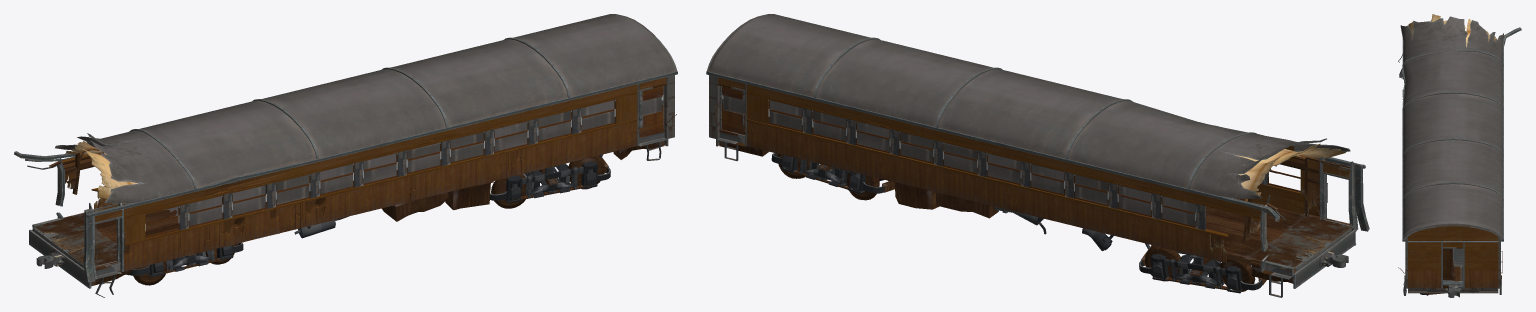
The model's file is TrainBody.fbx.
3 renders of one model, left to right at view 1: azimuth 30°, elevation 25°; view 2: azimuth 150°, elevation 25°; view 3: azimuth 270°, elevation 25°, orthographic. The views are drawn at different scales.
Visible parts, largest first — view 1: 0011_SM_d_114_BrokenLocomotive_02a, 0003_SM_d_114_BrokenLocomotive_02a, 0001_SM_d_114_BrokenLocomotive_02a, 0012_SM_d_114_BrokenLocomotive_02a, 0004_SM_d_114_BrokenLocomotive_02a, 0014_SM_d_114_BrokenLocomotive_02a, 0015_SM_d_114_BrokenLocomotive_02a, 0000_SM_d_114_BrokenLocomotive_02a, 0010_SM_d_114_BrokenLocomotive_02a, 0009_SM_d_114_BrokenLocomotive_02a, 0007_SM_d_114_BrokenLocomotive_02a, 0006_SM_d_114_BrokenLocomotive_02a (+2 smaller); view 2: 0011_SM_d_114_BrokenLocomotive_02a, 0003_SM_d_114_BrokenLocomotive_02a, 0001_SM_d_114_BrokenLocomotive_02a, 0012_SM_d_114_BrokenLocomotive_02a, 0014_SM_d_114_BrokenLocomotive_02a, 0015_SM_d_114_BrokenLocomotive_02a, 0004_SM_d_114_BrokenLocomotive_02a, 0000_SM_d_114_BrokenLocomotive_02a, 0002_SM_d_114_BrokenLocomotive_02a, 0010_SM_d_114_BrokenLocomotive_02a, 0009_SM_d_114_BrokenLocomotive_02a, 0008_SM_d_114_BrokenLocomotive_02a (+2 smaller); view 3: 0011_SM_d_114_BrokenLocomotive_02a, 0003_SM_d_114_BrokenLocomotive_02a, 0001_SM_d_114_BrokenLocomotive_02a, 0004_SM_d_114_BrokenLocomotive_02a, 0007_SM_d_114_BrokenLocomotive_02a, 0013_SM_d_114_BrokenLocomotive_02a, 0002_SM_d_114_BrokenLocomotive_02a.
Part boxes in pixels (box(x1,y1,x2,y2)): 0011_SM_d_114_BrokenLocomotive_02a: box(140, 14, 675, 188); 0003_SM_d_114_BrokenLocomotive_02a: box(60, 71, 677, 271); 0001_SM_d_114_BrokenLocomotive_02a: box(31, 16, 677, 297); 0012_SM_d_114_BrokenLocomotive_02a: box(163, 96, 661, 226); 0004_SM_d_114_BrokenLocomotive_02a: box(55, 130, 193, 203); 0014_SM_d_114_BrokenLocomotive_02a: box(40, 154, 610, 276); 0015_SM_d_114_BrokenLocomotive_02a: box(32, 140, 664, 286); 0000_SM_d_114_BrokenLocomotive_02a: box(27, 154, 178, 288); 0010_SM_d_114_BrokenLocomotive_02a: box(34, 214, 116, 265); 0009_SM_d_114_BrokenLocomotive_02a: box(76, 191, 233, 244); 0007_SM_d_114_BrokenLocomotive_02a: box(65, 140, 130, 198); 0006_SM_d_114_BrokenLocomotive_02a: box(62, 134, 526, 263); 0011_SM_d_114_BrokenLocomotive_02a: box(708, 14, 1247, 188); 0003_SM_d_114_BrokenLocomotive_02a: box(706, 71, 1365, 258); 0001_SM_d_114_BrokenLocomotive_02a: box(707, 16, 1355, 297); 0012_SM_d_114_BrokenLocomotive_02a: box(723, 95, 1276, 226); 0014_SM_d_114_BrokenLocomotive_02a: box(771, 153, 1344, 293); 0015_SM_d_114_BrokenLocomotive_02a: box(719, 140, 1352, 291); 0004_SM_d_114_BrokenLocomotive_02a: box(1190, 133, 1350, 199); 0000_SM_d_114_BrokenLocomotive_02a: box(1260, 157, 1369, 288); 0002_SM_d_114_BrokenLocomotive_02a: box(746, 119, 1350, 266); 0010_SM_d_114_BrokenLocomotive_02a: box(1249, 215, 1351, 267); 0009_SM_d_114_BrokenLocomotive_02a: box(1206, 198, 1305, 258); 0008_SM_d_114_BrokenLocomotive_02a: box(1210, 155, 1340, 250); 0011_SM_d_114_BrokenLocomotive_02a: box(1403, 51, 1502, 238); 0003_SM_d_114_BrokenLocomotive_02a: box(1402, 38, 1503, 288); 0001_SM_d_114_BrokenLocomotive_02a: box(1398, 50, 1503, 295); 0004_SM_d_114_BrokenLocomotive_02a: box(1400, 16, 1503, 62); 0007_SM_d_114_BrokenLocomotive_02a: box(1408, 14, 1496, 40); 0013_SM_d_114_BrokenLocomotive_02a: box(1444, 286, 1461, 297); 0002_SM_d_114_BrokenLocomotive_02a: box(1503, 27, 1521, 45).
Size of the model in its own units: 28.31 by 6.6 by 6.65.
